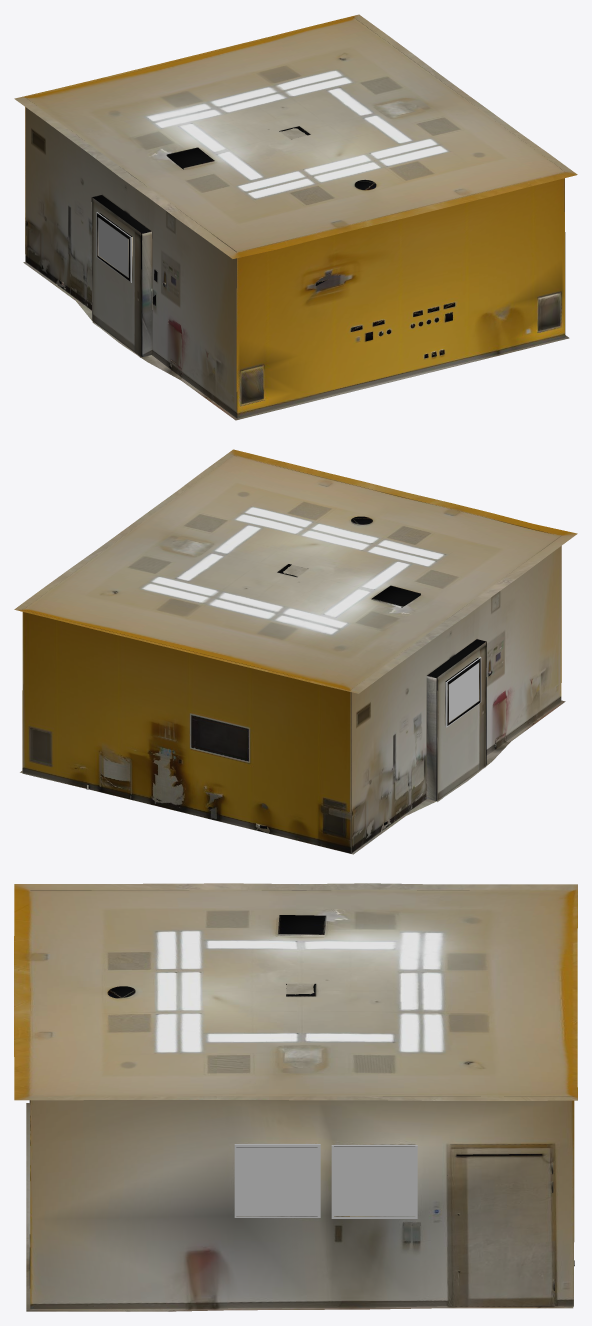
The picture shows the model from 3 angles, top to bottom: view 1: azimuth 30°, elevation 25°; view 2: azimuth 150°, elevation 25°; view 3: azimuth 270°, elevation 25°; orthographic projection. The views are drawn at different scales.
Visible parts, largest first — view 1: OP_Mitte, Window_Door; view 2: OP_Mitte, Window_Door; view 3: OP_Mitte, Window1, Window2.
Boxes of the visible parts, box(x1,y1,x2,y2) form: OP_Mitte: box(14, 14, 577, 420); Window_Door: box(96, 212, 131, 282); OP_Mitte: box(14, 449, 577, 854); Window_Door: box(445, 657, 481, 727); OP_Mitte: box(14, 883, 577, 1311); Window1: box(234, 1144, 320, 1217); Window2: box(331, 1145, 417, 1218).
Bounding box in the file's own units: 12.12 × 5.62 × 13.21.
4 materials, 4 textured.
